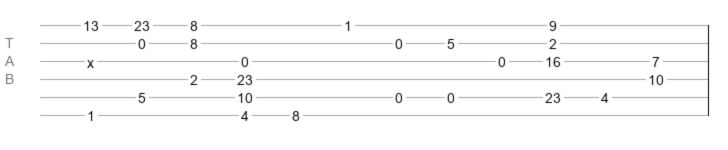0: (138, 36, 146, 46), (241, 54, 249, 64), (395, 90, 403, 100), (395, 36, 403, 46), (447, 90, 455, 100), (498, 54, 506, 64)
1: (87, 108, 95, 118), (344, 18, 352, 28)
10: (237, 90, 253, 100), (648, 72, 664, 82)
13: (83, 18, 99, 28)
16: (545, 54, 561, 64)
2: (190, 72, 198, 82), (549, 36, 557, 46)
23: (134, 18, 150, 28), (237, 72, 253, 82), (545, 90, 561, 100)
4: (241, 108, 249, 118), (601, 90, 609, 100)
5: (138, 90, 146, 100), (447, 36, 455, 46)
7: (652, 54, 660, 64)
8: (190, 36, 198, 46), (190, 18, 198, 28), (292, 108, 300, 118)
9: (549, 18, 557, 28)
x: (87, 55, 94, 63)
